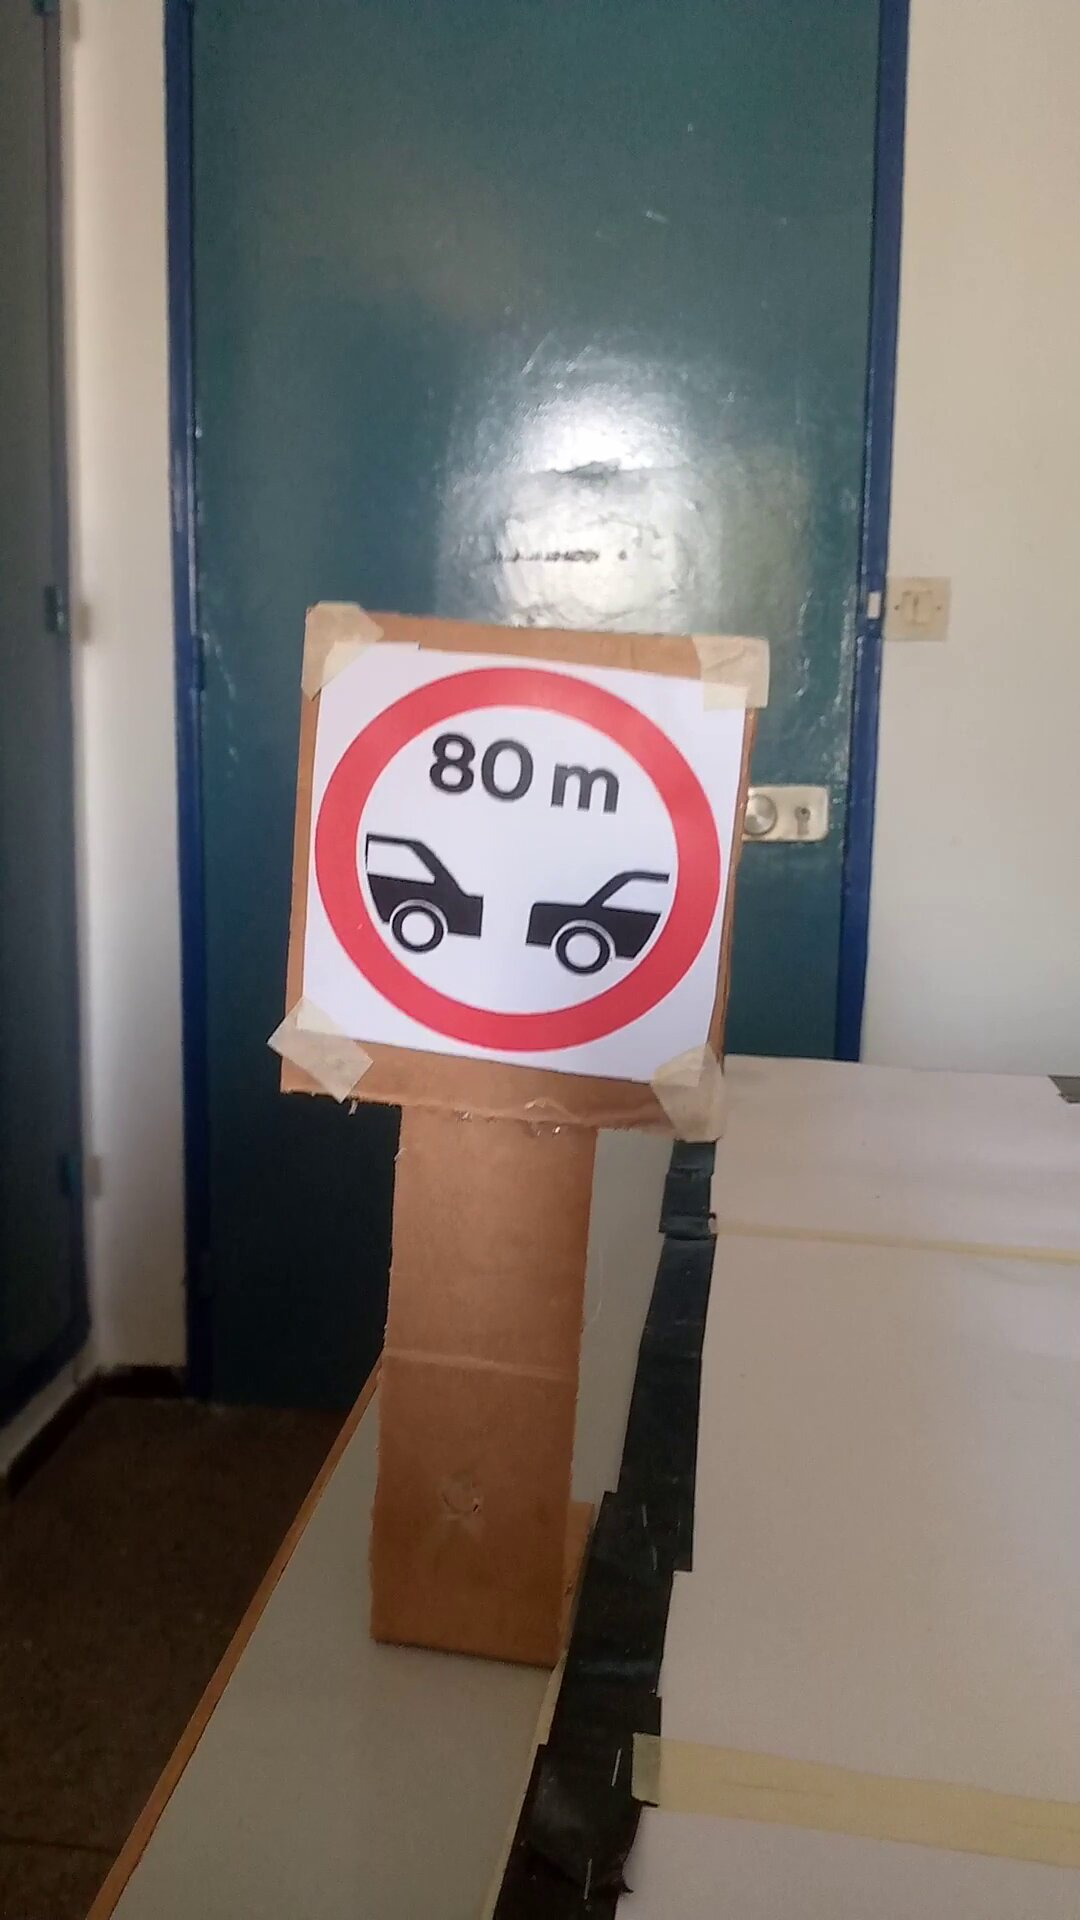panel001: (301, 597, 731, 1143)
